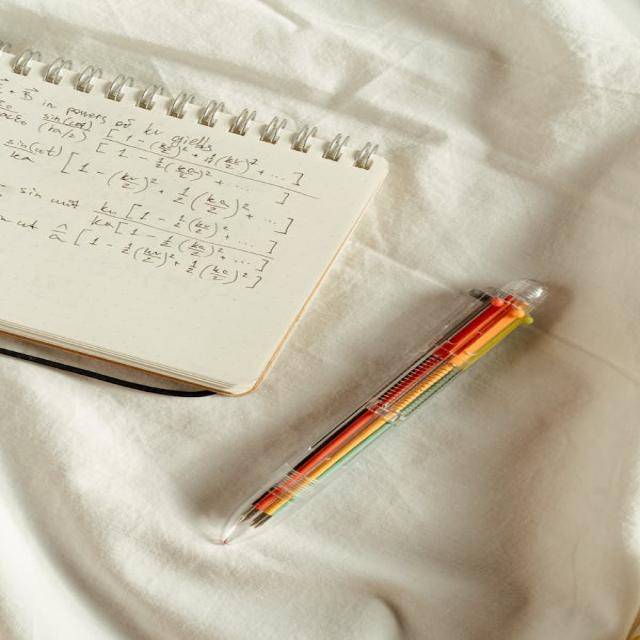pen: (180, 252, 603, 577)
